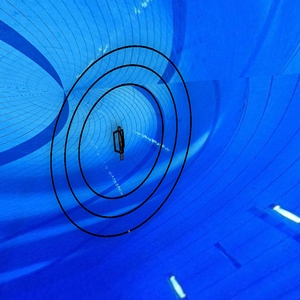circle: (47, 43, 201, 241)
submarine: (107, 122, 133, 165)
